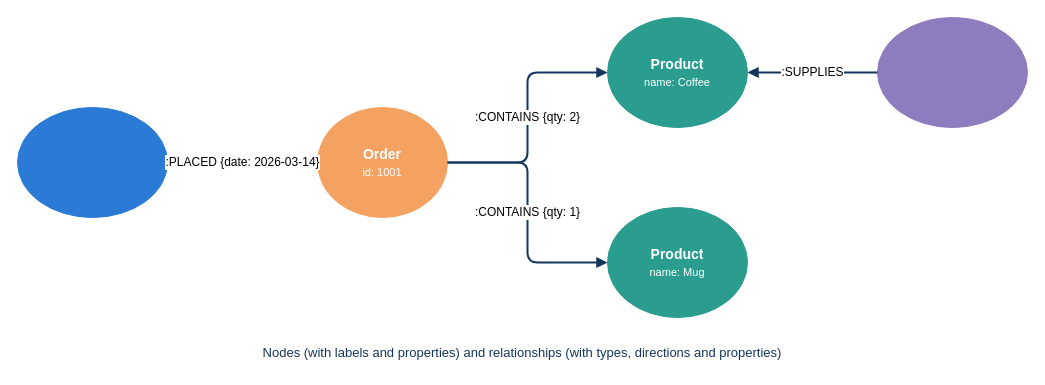
The diagram is 1045 pixels wide and 385 high, and some of its shapes have lost their labels. Each missing label, with the centre of its shape:
"Customer name: Ana Ruiz city: Wichita" belongs at (x=92, y=162).
"Supplier name: Prairie Roasters" belongs at (x=952, y=72).
